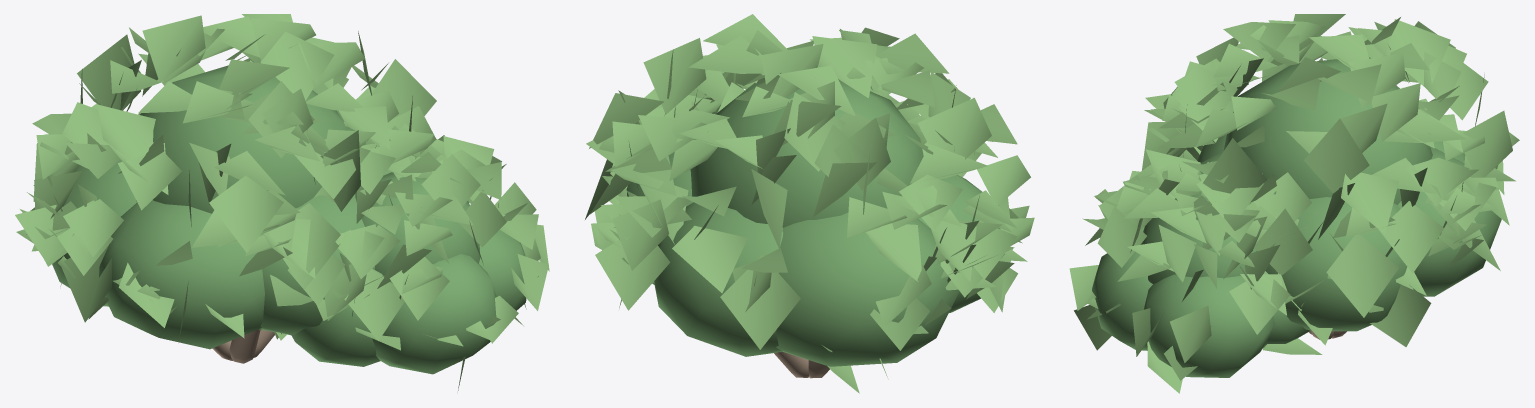
The model's file is plant.shrub.glb.
3 renders of one model, left to right at view 1: azimuth 30°, elevation 25°; view 2: azimuth 150°, elevation 25°; view 3: azimuth 270°, elevation 25°, orthographic. The views are drawn at different scales.
Parts seen in each view (by area): view 1: Leaf, LeafDark, Bark; view 2: Leaf, LeafDark, Bark; view 3: Leaf, LeafDark.
Part boxes in pixels (<box>): Leaf: <box>15,14,549,390</box>; LeafDark: <box>52,65,526,374</box>; Bark: <box>212,329,274,363</box>; Leaf: <box>585,14,1034,393</box>; LeafDark: <box>626,79,1000,366</box>; Bark: <box>774,352,829,378</box>; Leaf: <box>1069,14,1519,393</box>; LeafDark: <box>1092,59,1501,377</box>.
Size of the model in its own units: 1.33 by 0.9011 by 1.23.
